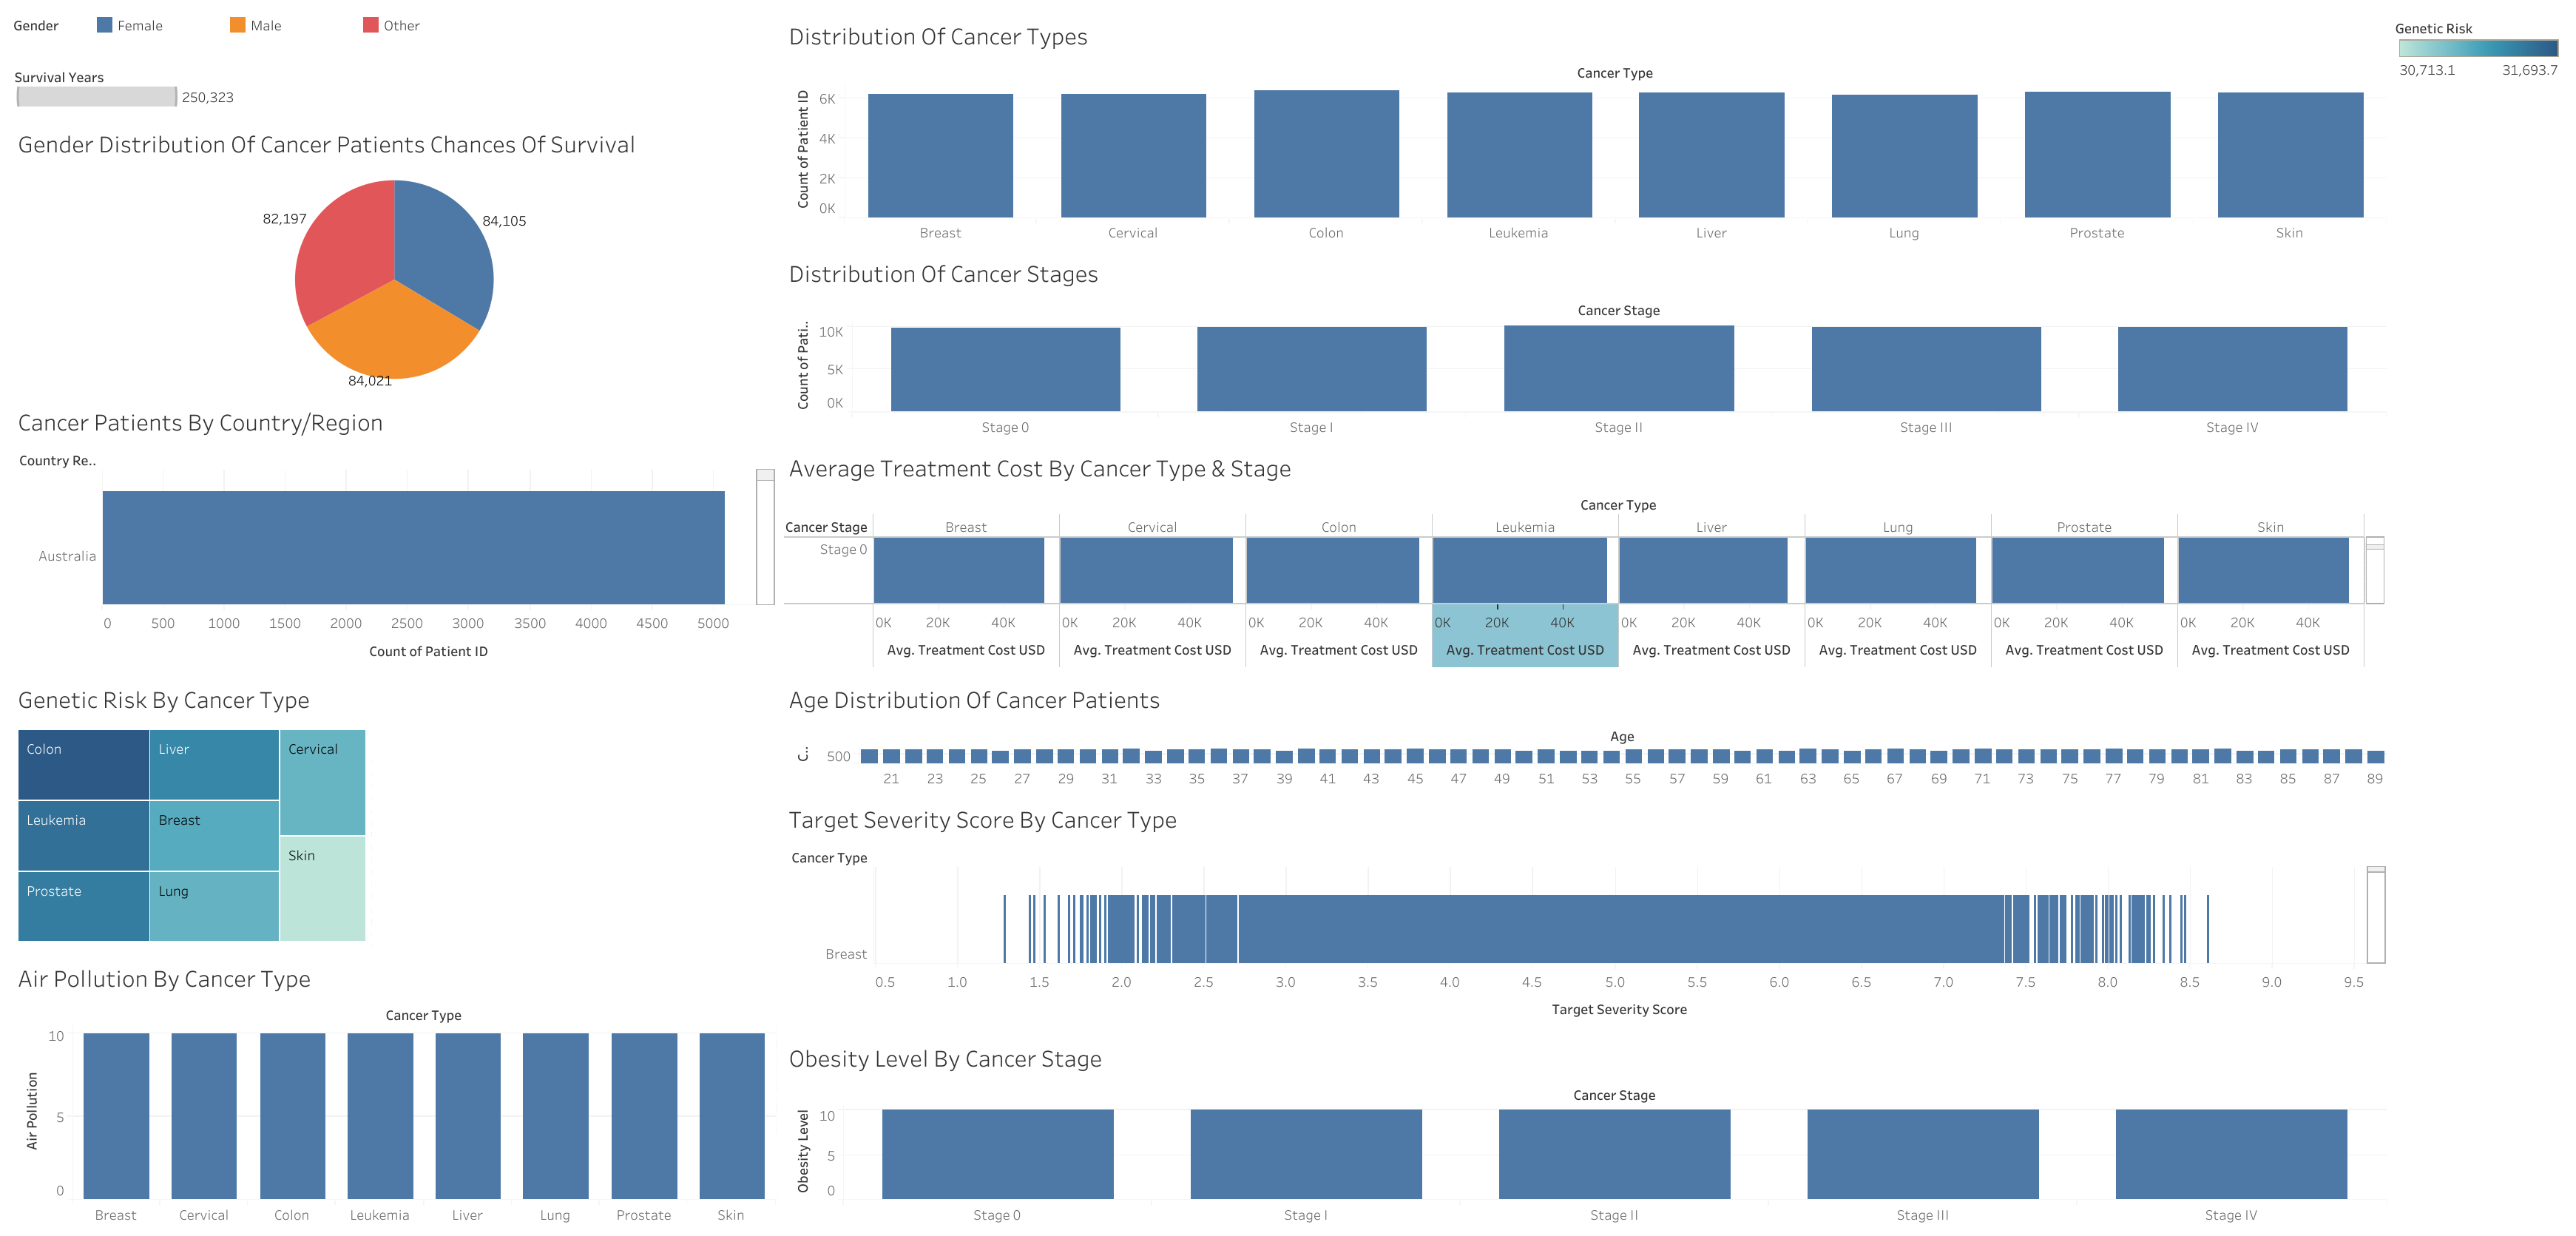

Layout of this report page (visuals, bound fields, positions):
{"tool":"tableau","page":{"name":"Global Cancer Patients 2015-2024","canvas":[1000,1000],"units":"permille","ordinal":0},"visuals":[{"type":"legend","title":"Gender Distribution Of Cancer Patients Chances Of Survival","param":"[federated.0156ykz1tyh7ri15ufx9t1wapqqk].[none:Gender:nk]","box":[3.4,7.2,299.2,40.8]},{"type":"worksheet","title":"Distribution Of Cancer Types","mark":"Automatic","rows":["Patient_ID"],"cols":["Cancer_Type"],"box":[302.6,7.2,625.1,191.9]},{"type":"legend","title":"Genetic Risk By Cancer Type","param":"[federated.0156ykz1tyh7ri15ufx9t1wapqqk].[sum:Genetic_Risk:qk]","box":[927.7,7.2,68.9,61]},{"type":"legend","title":"Gender Distribution Of Cancer Patients Chances Of Survival","param":"[federated.0156ykz1tyh7ri15ufx9t1wapqqk].[sum:Survival_Years:qk]","box":[3.4,48,299.2,46.3]},{"type":"worksheet","title":"Gender Distribution Of Cancer Patients Chances Of Survival","mark":"Pie","box":[3.4,94.3,299.2,224.6]},{"type":"worksheet","title":"Distribution Of Cancer Stages","mark":"Automatic","rows":["Patient_ID"],"cols":["Cancer_Stage"],"box":[302.6,199.1,625.1,157]},{"type":"worksheet","title":"Cancer Patients By Country/Region","mark":"Automatic","rows":["Country_Region"],"cols":["Patient_ID"],"box":[3.4,318.9,299.2,224.6]},{"type":"worksheet","title":"Average Treatment Cost By Cancer Type & Stage","mark":"Automatic","rows":["Cancer_Stage"],"cols":["Cancer_Type","Treatment_Cost_USD"],"box":[302.6,356.1,625.1,187.4]},{"type":"worksheet","title":"Genetic Risk By Cancer Type","mark":"Automatic","box":[3.4,543.5,299.2,224.6]},{"type":"worksheet","title":"Age Distribution Of Cancer Patients","mark":"Automatic","rows":["Patient_ID"],"cols":["Age"],"box":[302.6,543.5,625.1,96.9]},{"type":"worksheet","title":"Target Severity Score By Cancer Type","mark":"Automatic","rows":["Cancer_Type"],"cols":["Target_Severity_Score"],"box":[302.6,640.4,625.1,192.8]},{"type":"worksheet","title":"Air Pollution By Cancer Type","mark":"Automatic","rows":["Air_Pollution"],"cols":["Cancer_Type"],"box":[3.4,768.2,299.2,224.6]},{"type":"worksheet","title":"Obesity Level By Cancer Stage","mark":"Automatic","rows":["Obesity_Level"],"cols":["Cancer_Stage"],"box":[302.6,833.2,625.1,159.7]}]}

Visuals, with their boxes on the dashboard's canvas, which has no fixed pixel size, in thousandths of its width and height (x1, y1, x2, y2). These are canvas units, not pixel positions in the 2576x1236 screenshot, which may show the page scaled, cropped or inside an application window:
"Gender Distribution Of Cancer Patients Chances Of Survival" legend: box=[3, 7, 303, 48]
"Distribution Of Cancer Types" worksheet: box=[303, 7, 928, 199]
"Genetic Risk By Cancer Type" legend: box=[928, 7, 997, 68]
"Gender Distribution Of Cancer Patients Chances Of Survival" legend: box=[3, 48, 303, 94]
"Gender Distribution Of Cancer Patients Chances Of Survival" worksheet (Pie marks): box=[3, 94, 303, 319]
"Distribution Of Cancer Stages" worksheet: box=[303, 199, 928, 356]
"Cancer Patients By Country/Region" worksheet: box=[3, 319, 303, 544]
"Average Treatment Cost By Cancer Type & Stage" worksheet: box=[303, 356, 928, 544]
"Genetic Risk By Cancer Type" worksheet: box=[3, 544, 303, 768]
"Age Distribution Of Cancer Patients" worksheet: box=[303, 544, 928, 640]
"Target Severity Score By Cancer Type" worksheet: box=[303, 640, 928, 833]
"Air Pollution By Cancer Type" worksheet: box=[3, 768, 303, 993]
"Obesity Level By Cancer Stage" worksheet: box=[303, 833, 928, 993]
